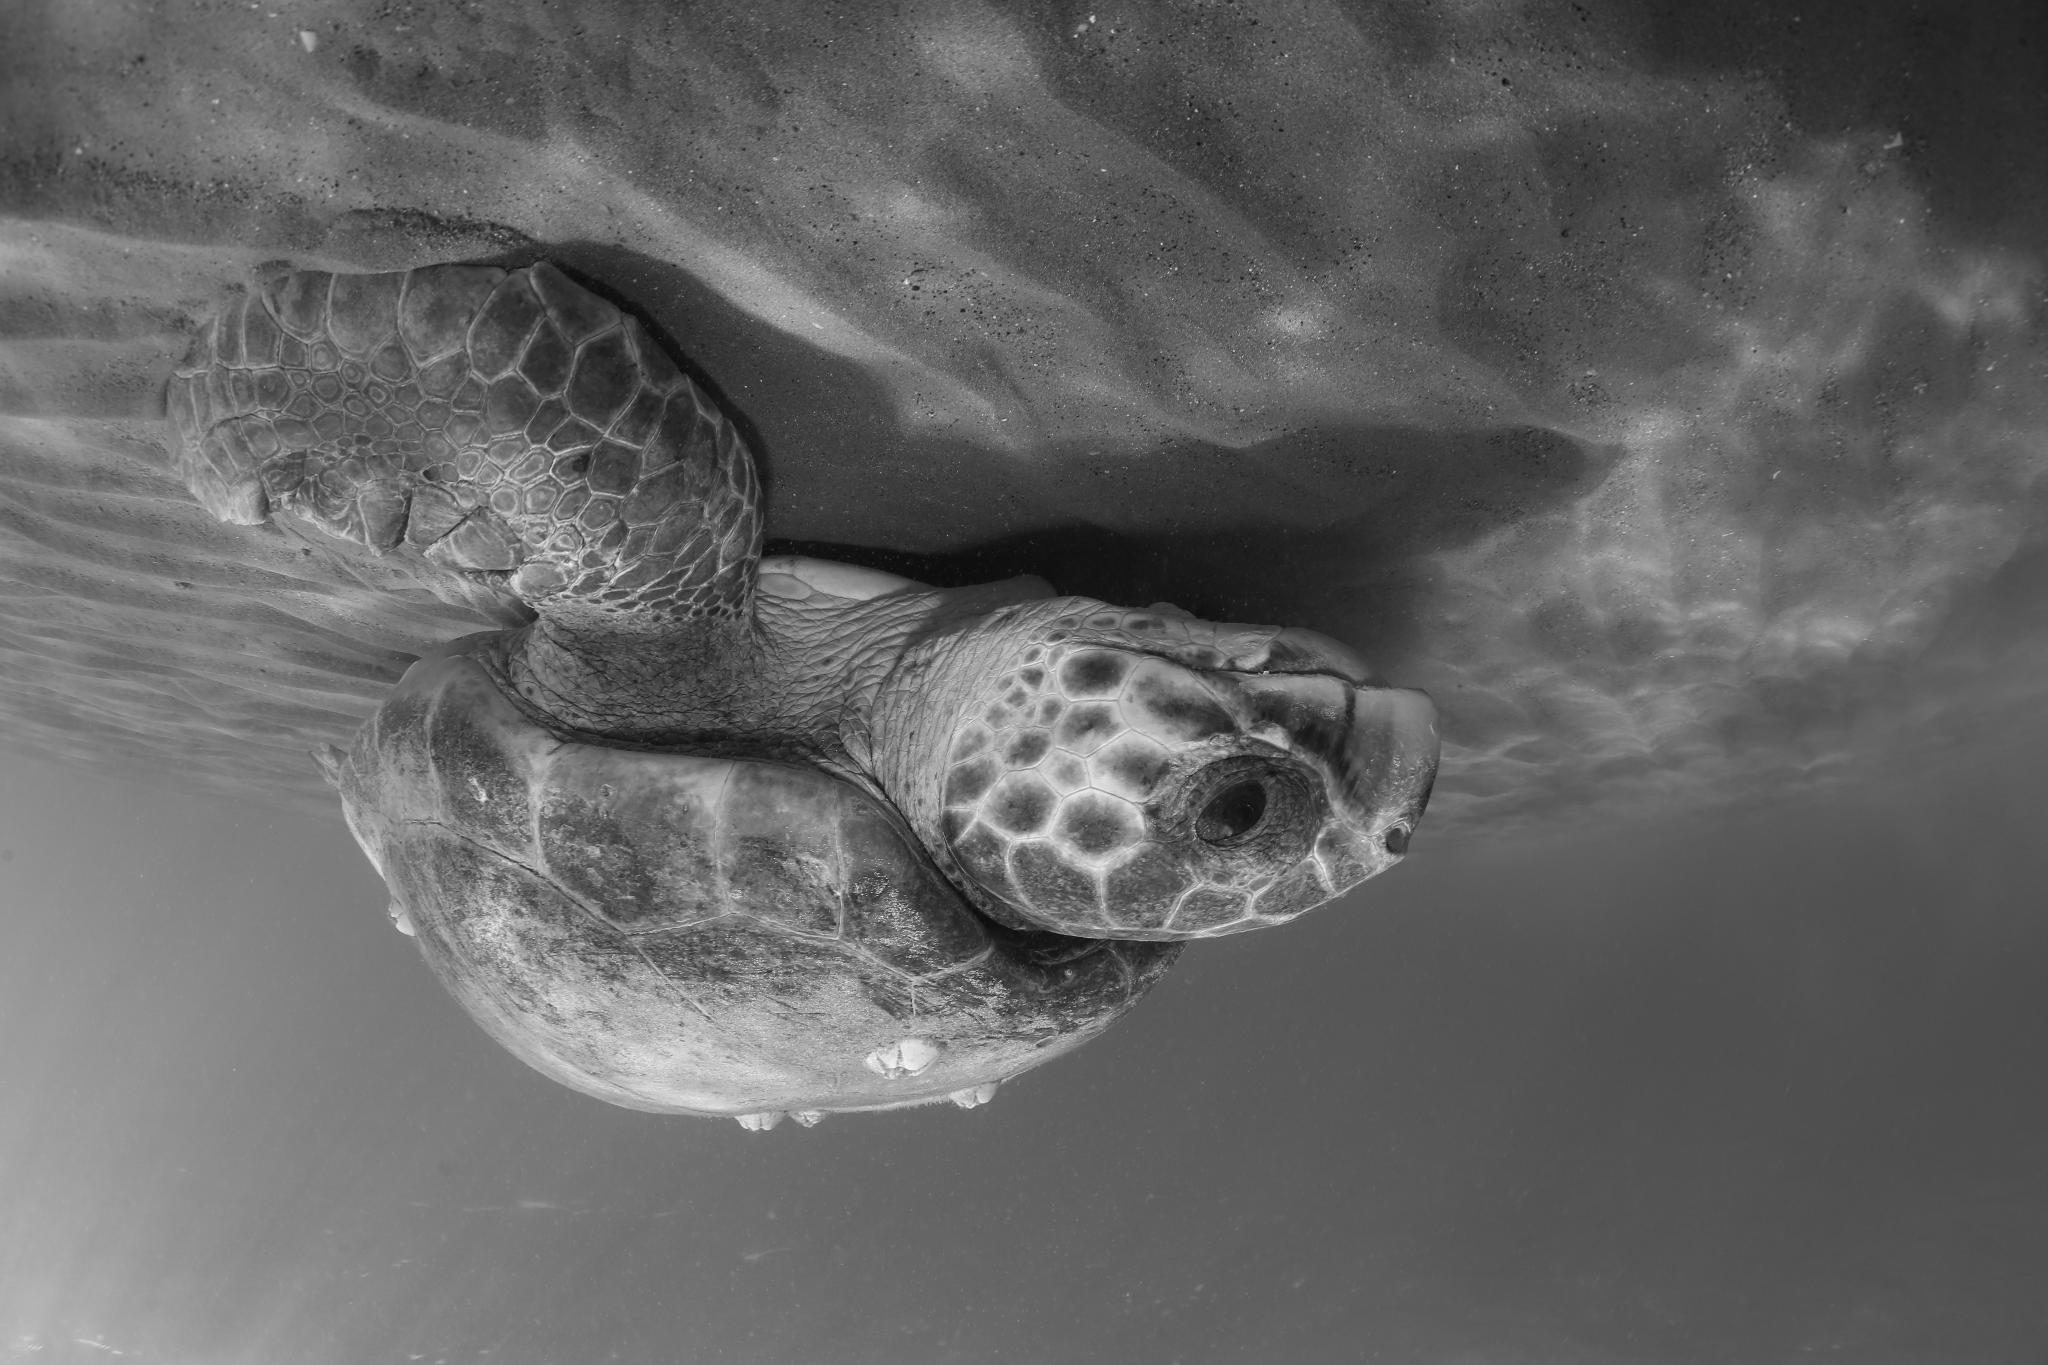Head: (863, 597, 1439, 941)
